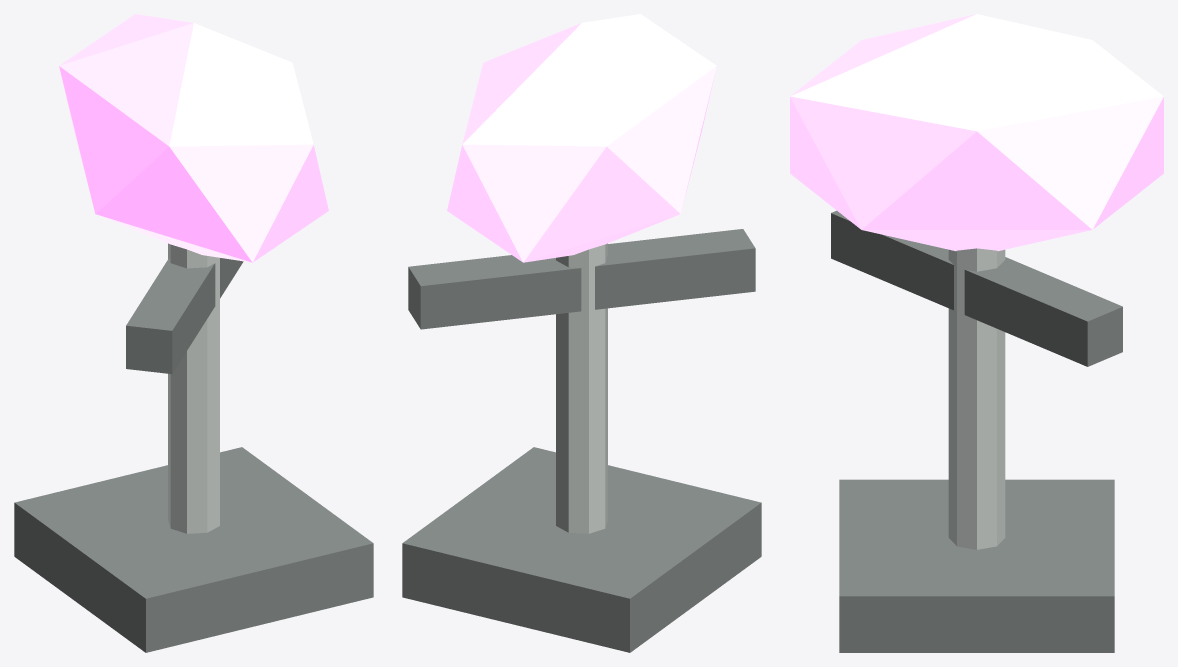
File: riftAnchor.glb
3 renders of one model, left to right at view 1: azimuth 30°, elevation 25°; view 2: azimuth 150°, elevation 25°; view 3: azimuth 270°, elevation 25°, orthographic. The views are drawn at different scales.
Parts seen in each view (by area): view 1: BeaconCrystal, LightBase, LightPost, BeaconRing; view 2: BeaconCrystal, LightBase, BeaconRing, LightPost; view 3: BeaconCrystal, LightBase, BeaconRing, LightPost.
Part boxes in pixels (<box>): BeaconCrystal: <box>59,14,328,262</box>; LightBase: <box>14,447,373,652</box>; LightPost: <box>168,243,219,533</box>; BeaconRing: <box>126,258,243,373</box>; BeaconCrystal: <box>447,14,716,262</box>; LightBase: <box>402,447,761,652</box>; BeaconRing: <box>408,229,755,329</box>; LightPost: <box>556,243,607,533</box>; BeaconCrystal: <box>790,14,1163,251</box>; LightBase: <box>839,479,1114,652</box>; BeaconRing: <box>831,210,1122,366</box>; LightPost: <box>948,248,1005,549</box>.
Size of the model in its own units: 0.4667 by 1.02 by 0.5971.
